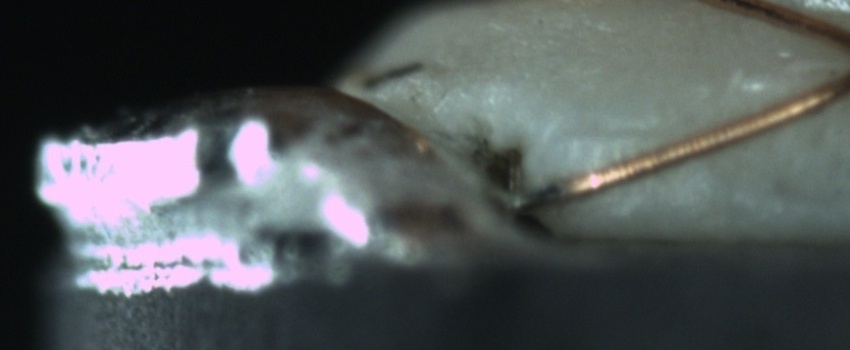DL: (568, 101, 686, 162)
TS: (505, 182, 560, 212)
